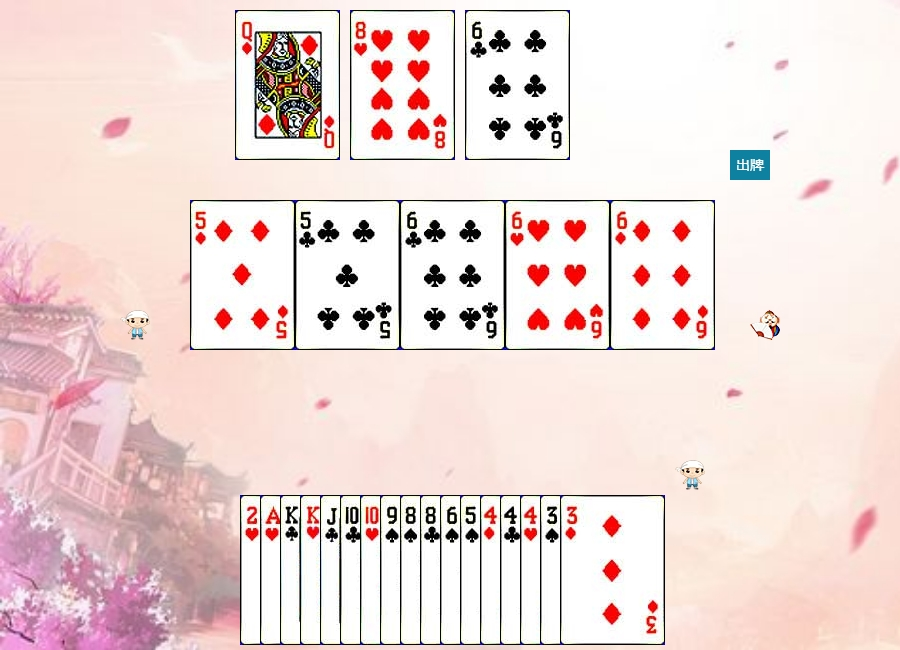10~2: (340, 495, 445, 645)
10~3: (360, 495, 465, 645)
11~2: (320, 495, 425, 645)
12~1: (235, 10, 340, 160)
13~2: (280, 495, 385, 645)
13~3: (300, 495, 405, 645)
14~3: (260, 495, 365, 645)
15~3: (240, 495, 345, 645)
3~1: (560, 495, 665, 645)
3~4: (540, 495, 645, 645)
4~1: (480, 495, 585, 645)
4~2: (500, 495, 605, 645)
4~3: (520, 495, 625, 645)
5~1: (190, 200, 295, 350)
5~2: (295, 200, 400, 350)
5~4: (460, 495, 565, 645)
6~1: (610, 200, 715, 350)
6~2: (465, 10, 570, 160), (400, 200, 505, 350)
6~3: (505, 200, 610, 350)
6~4: (440, 495, 545, 645)
8~2: (420, 495, 525, 645)
8~3: (350, 10, 455, 160)
8~4: (400, 495, 505, 645)
9~4: (380, 495, 485, 645)
